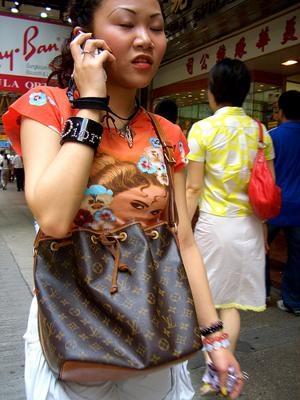person: (3, 1, 246, 398)
